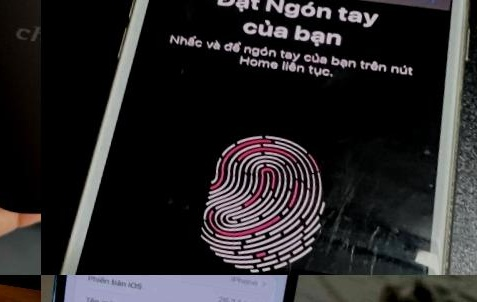scratch: (255, 140, 441, 275)
